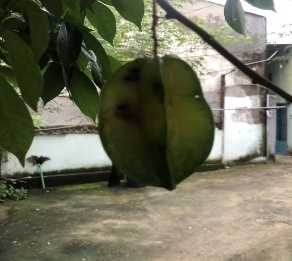Khe: (92, 56, 223, 191)
